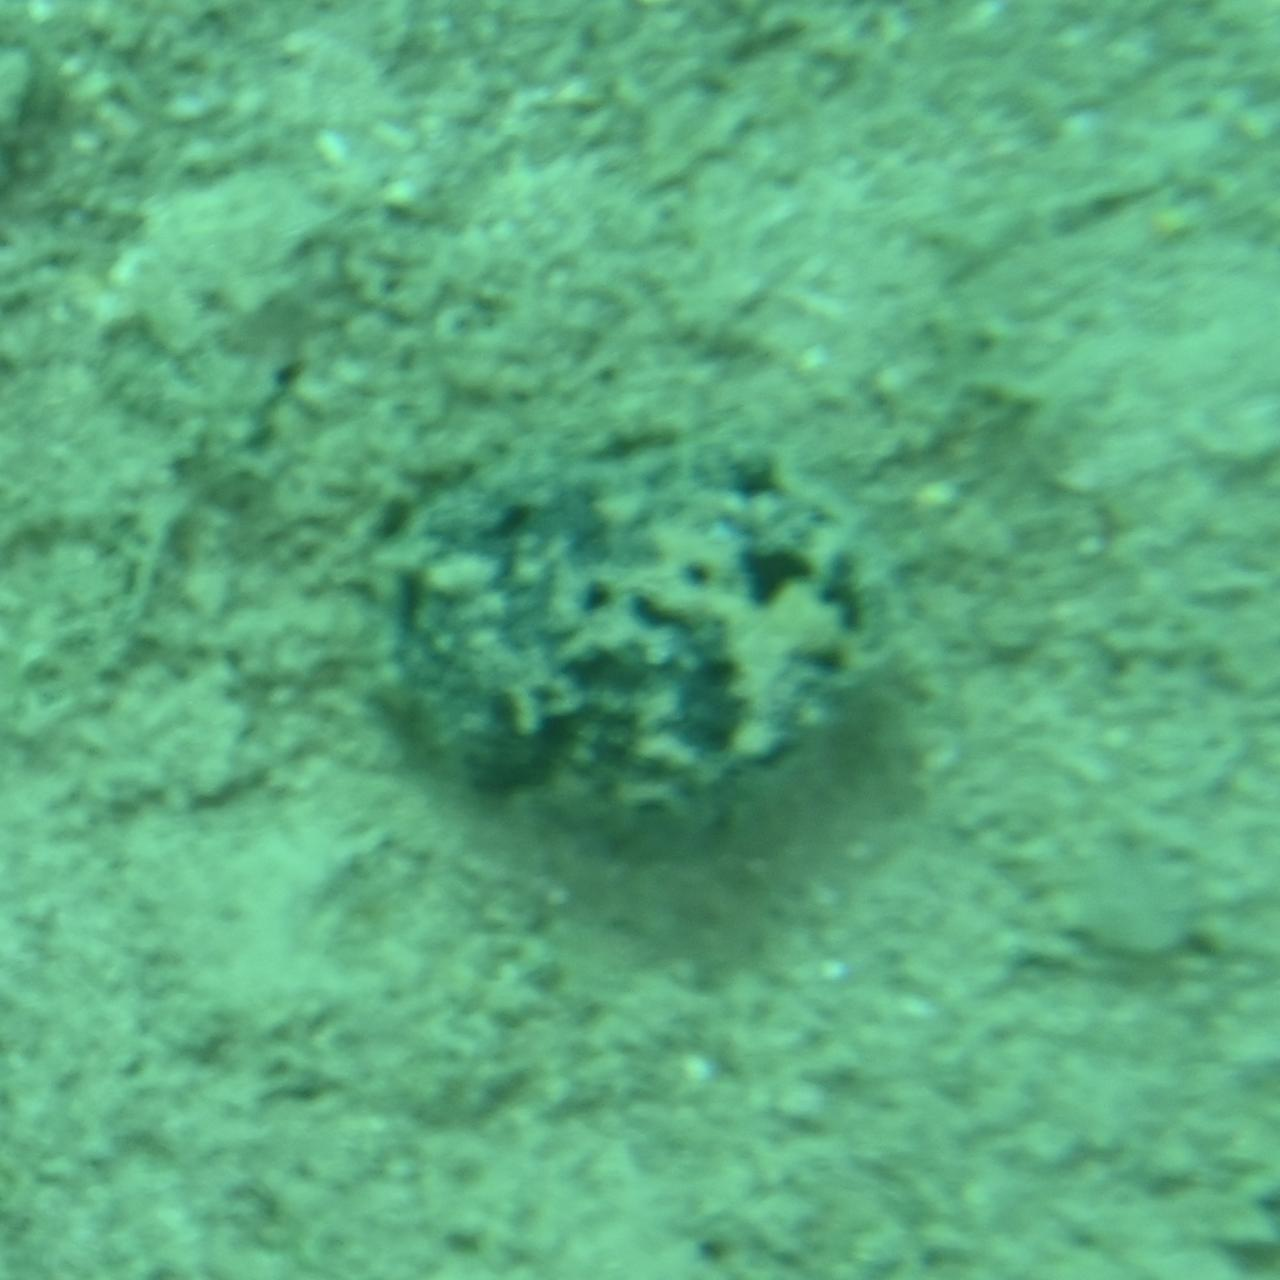Keratosa -cfr Sarcotragus-: (368, 433, 912, 847)
